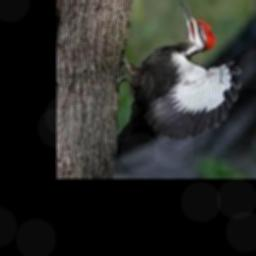Woodpecker: (118, 0, 241, 141)
